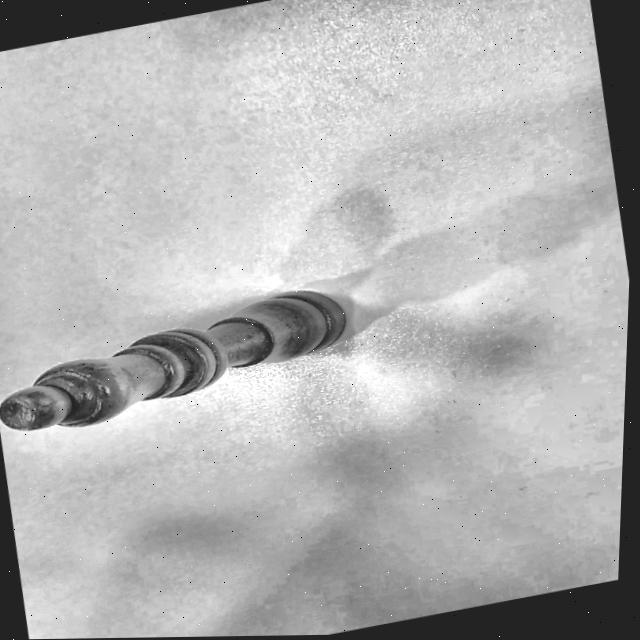black-queen: (0, 264, 377, 450)
